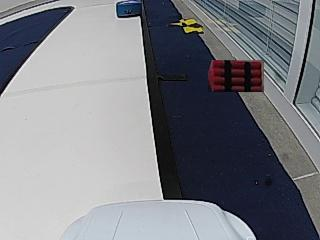prop: (116, 1, 141, 18)
